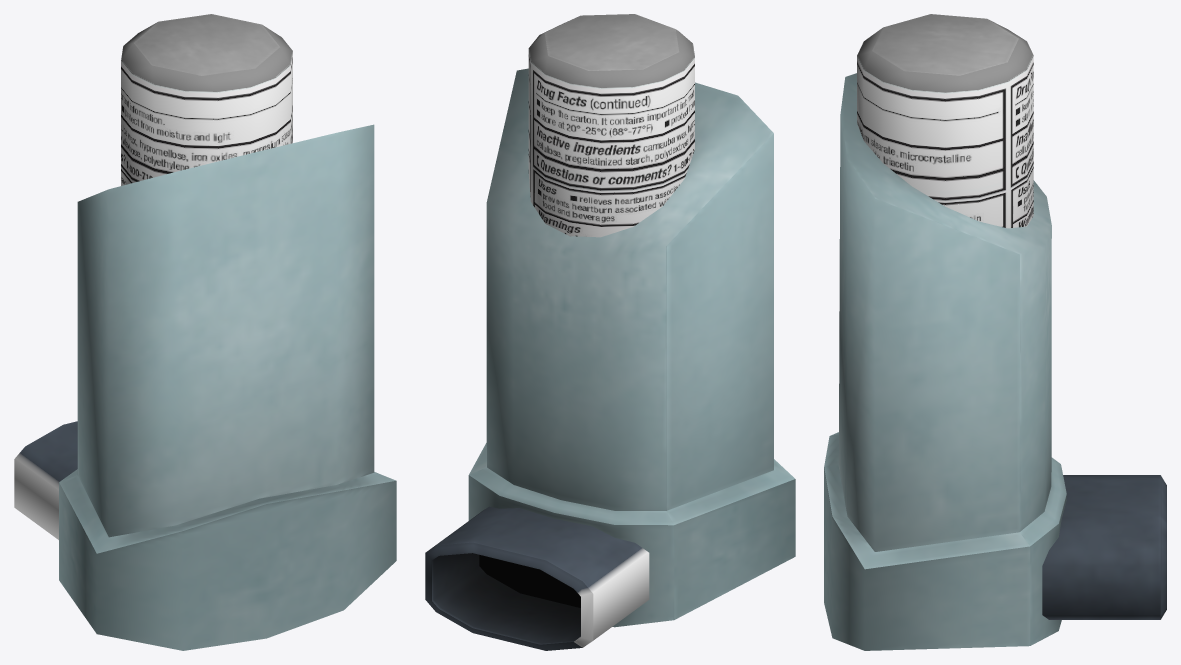
The model's file is Inhaler.fbx.
The picture shows the model from 3 angles, left to right: view 1: azimuth 30°, elevation 25°; view 2: azimuth 150°, elevation 25°; view 3: azimuth 270°, elevation 25°; orthographic projection. The views are drawn at different scales.
Parts seen in each view (by area): view 1: o_asthma_inhaler; view 2: o_asthma_inhaler; view 3: o_asthma_inhaler.
Boxes of the visible parts, x1,y1,x2,y2 form: o_asthma_inhaler: (14, 14, 396, 650); o_asthma_inhaler: (425, 14, 795, 650); o_asthma_inhaler: (824, 14, 1166, 650).
Size of the model in its own units: 8.23 by 14.46 by 8.02.
